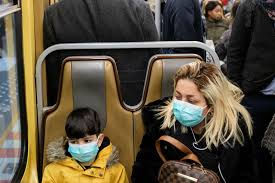with_mask: (171, 77, 213, 131), (66, 111, 103, 162)
without_mask: (206, 3, 223, 22)
